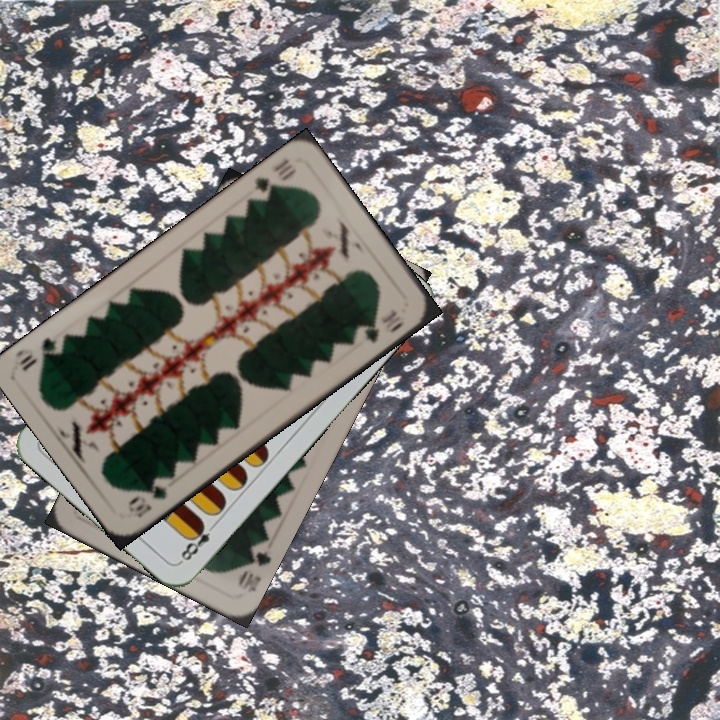E8: (176, 518, 220, 565)
G10: (250, 154, 299, 204), (234, 544, 274, 595), (123, 480, 170, 520)
